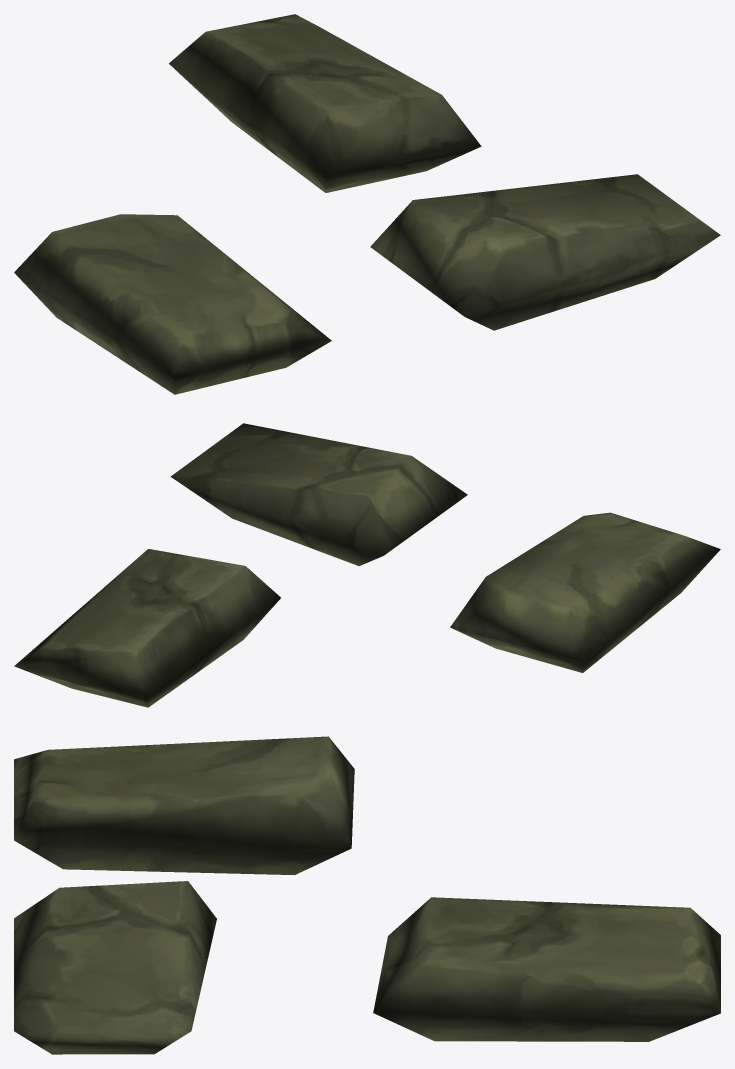
File: loose_rocks_01.fbx
The picture shows the model from 3 angles, top to bottom: view 1: azimuth 30°, elevation 25°; view 2: azimuth 150°, elevation 25°; view 3: azimuth 270°, elevation 25°; orthographic projection. The views are drawn at different scales.
Parts seen in each view (by area): view 1: loose_rocks_01; view 2: loose_rocks_01; view 3: loose_rocks_01.
Part boxes in pixels (<box>): loose_rocks_01: <box>14,14,720,394</box>; loose_rocks_01: <box>14,423,720,707</box>; loose_rocks_01: <box>14,736,720,1054</box>.
Size of the model in its own units: 190 by 30.05 by 200.
